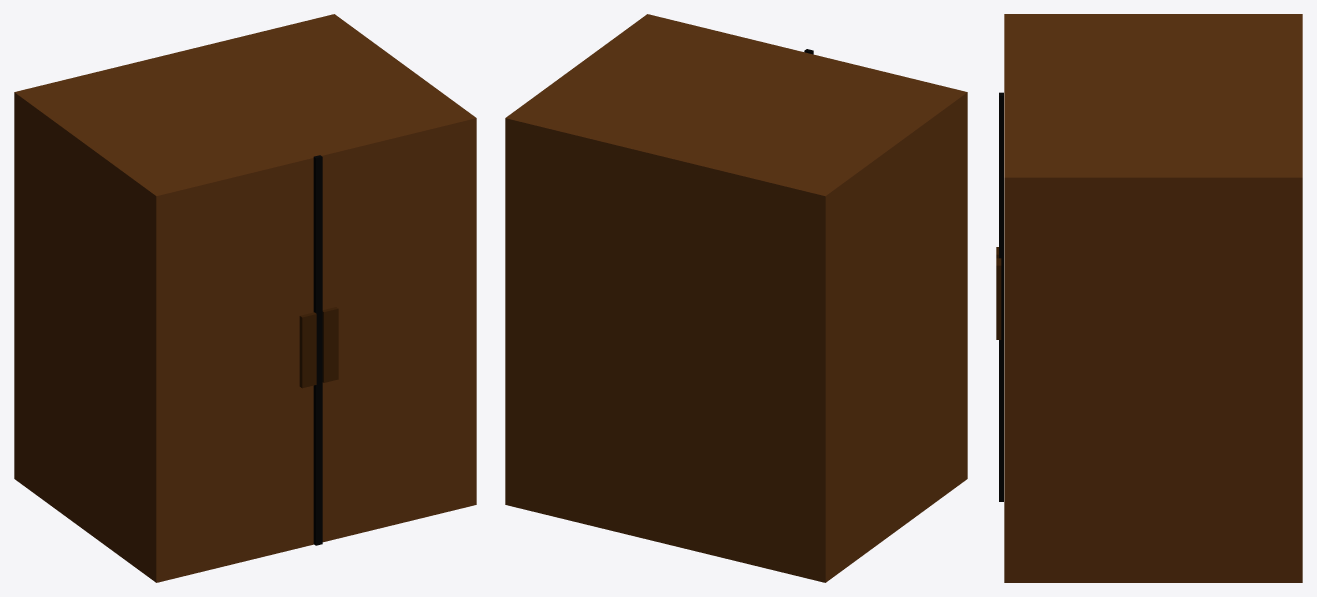
The model's file is CHESTT.FBX.
The picture shows the model from 3 angles, left to right: view 1: azimuth 30°, elevation 25°; view 2: azimuth 150°, elevation 25°; view 3: azimuth 270°, elevation 25°; orthographic projection. The views are drawn at different scales.
Parts seen in each view (by area): view 1: Box001, Box002, Box003, Box004; view 2: Box001; view 3: Box001, Box002, Box004.
Boxes of the visible parts, bbox=[...] form: Box001: bbox=[14, 14, 476, 582]; Box002: bbox=[313, 155, 322, 545]; Box003: bbox=[299, 312, 316, 388]; Box004: bbox=[322, 307, 338, 382]; Box001: bbox=[505, 14, 967, 582]; Box001: bbox=[1004, 14, 1302, 582]; Box002: bbox=[999, 92, 1003, 501]; Box004: bbox=[996, 258, 1001, 339].
Bounding box in the file's own units: 440 × 509 × 347.
